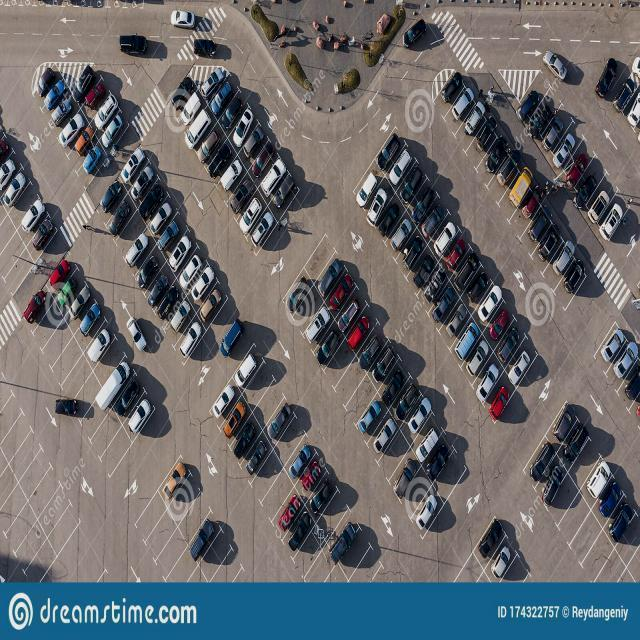car: (76, 352, 140, 444), (408, 405, 447, 471), (588, 471, 630, 532), (353, 317, 392, 380), (600, 491, 640, 552), (388, 443, 426, 507), (408, 481, 447, 543), (166, 470, 205, 531), (292, 448, 330, 509), (280, 502, 318, 563), (269, 485, 307, 545), (61, 279, 99, 339), (579, 452, 617, 512), (171, 312, 210, 370), (326, 506, 363, 567), (122, 386, 159, 447), (364, 336, 402, 395), (321, 267, 360, 324), (420, 428, 457, 488), (187, 508, 224, 568), (544, 397, 581, 457), (52, 262, 90, 320), (218, 391, 254, 452), (239, 427, 276, 486), (281, 430, 318, 489), (386, 375, 424, 432), (228, 409, 264, 469), (126, 155, 163, 213), (150, 278, 187, 336), (229, 341, 267, 397), (313, 247, 349, 306), (373, 358, 413, 411), (397, 395, 436, 449), (157, 452, 192, 512), (524, 434, 559, 494), (312, 317, 348, 375), (207, 376, 243, 433), (72, 298, 108, 355), (534, 454, 570, 511), (112, 370, 147, 428), (301, 301, 337, 357), (103, 190, 139, 246), (136, 174, 172, 230), (196, 278, 232, 334), (123, 224, 159, 280), (347, 300, 381, 359), (261, 394, 296, 451), (94, 174, 130, 229), (145, 192, 181, 247), (162, 293, 198, 348), (83, 318, 118, 374), (154, 209, 190, 263), (185, 262, 221, 316), (45, 249, 80, 304), (165, 227, 201, 280), (117, 141, 152, 195), (175, 244, 210, 298), (141, 261, 177, 312), (133, 244, 167, 297), (23, 283, 57, 335)
free: (428, 445, 471, 509), (567, 503, 607, 571), (5, 424, 46, 489), (24, 461, 65, 524), (44, 498, 84, 562), (34, 481, 74, 544), (554, 487, 593, 551), (397, 463, 436, 525), (89, 334, 131, 391), (375, 426, 414, 487), (335, 521, 373, 583), (579, 524, 618, 584), (355, 388, 392, 451), (342, 369, 380, 430), (175, 487, 213, 548), (15, 445, 54, 504), (259, 464, 296, 526), (3, 496, 40, 558), (11, 516, 49, 576), (250, 446, 287, 507), (301, 230, 339, 289), (321, 335, 359, 394), (291, 522, 329, 581), (197, 526, 234, 586), (143, 506, 180, 566), (97, 420, 134, 480), (544, 472, 582, 530), (366, 409, 403, 468), (153, 524, 190, 583), (567, 432, 604, 491), (271, 413, 308, 471), (314, 488, 351, 546), (39, 317, 77, 373), (240, 357, 276, 416), (250, 377, 287, 434), (0, 408, 35, 468), (133, 488, 169, 546), (334, 353, 370, 410), (88, 407, 125, 462), (30, 299, 66, 355), (50, 333, 85, 390), (0, 479, 30, 542), (22, 533, 59, 584), (114, 208, 149, 261), (60, 351, 95, 401), (302, 539, 340, 582), (613, 510, 640, 569), (591, 545, 630, 582)
